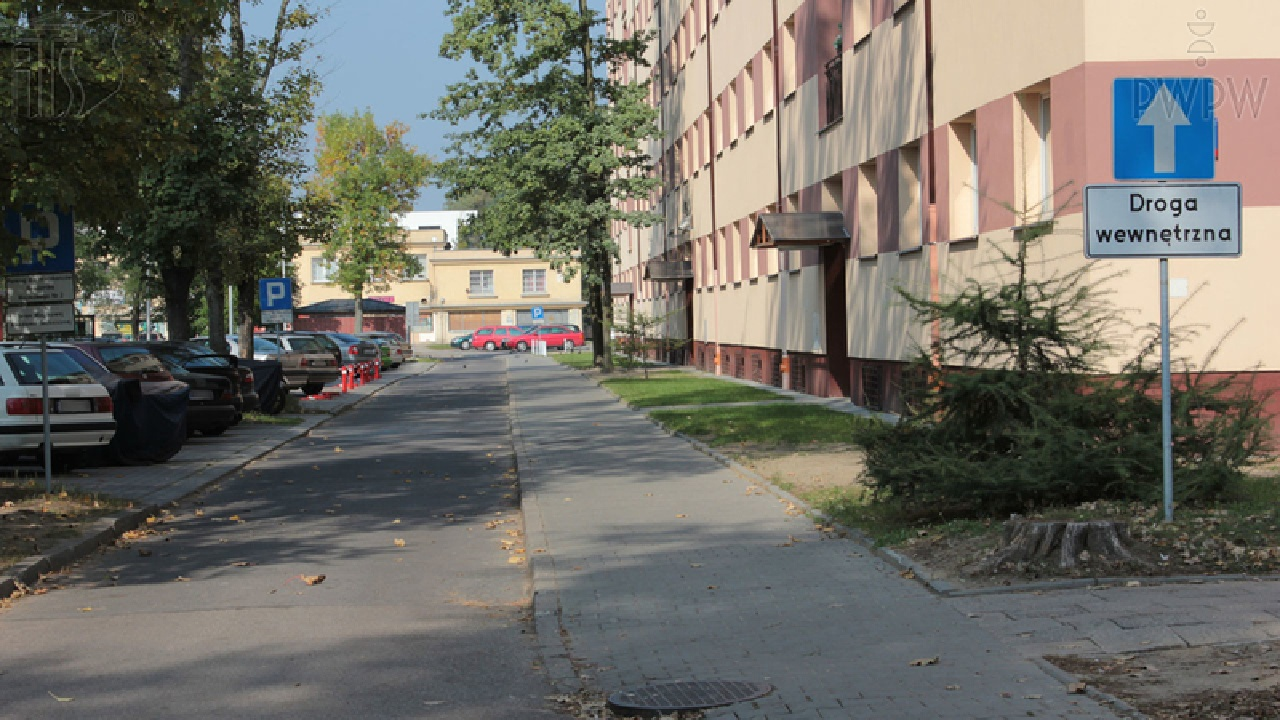D18: (1, 202, 80, 278), (254, 278, 296, 313)
D3: (1102, 67, 1224, 184)
